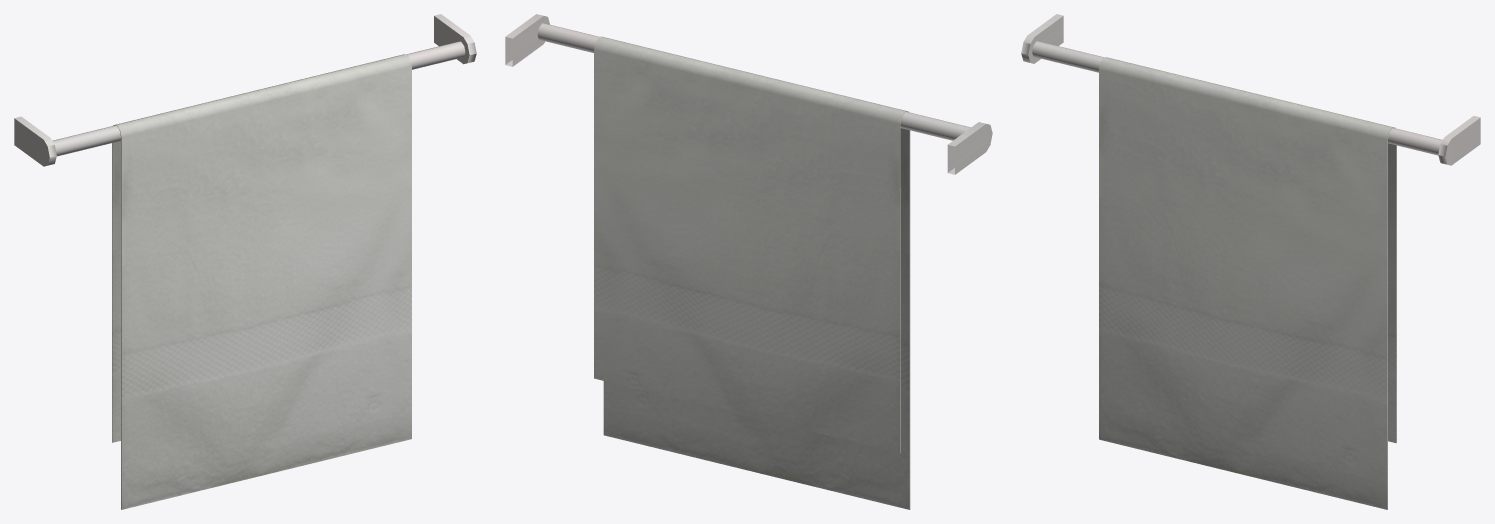
The model's file is Towel_hold.FBX.
3 views of the same model, side by side, from view 1: azimuth 30°, elevation 25°; view 2: azimuth 150°, elevation 25°; view 3: azimuth 330°, elevation 25° (orthographic). The views are drawn at different scales.
Visible parts, largest first — view 1: Towel_hold; view 2: Towel_hold; view 3: Towel_hold.
Boxes of the visible parts, left/top/right/bottom form: Towel_hold: left=14, top=14, right=476, bottom=509; Towel_hold: left=505, top=14, right=992, bottom=509; Towel_hold: left=1021, top=14, right=1480, bottom=509.
Bounding box in the file's own units: 0.8135 × 0.7036 × 0.1177.
